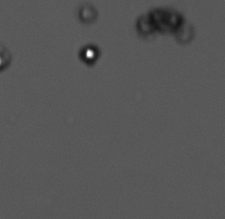Dead Cell: (149, 1, 184, 36), (175, 22, 195, 44), (136, 13, 155, 35), (80, 4, 99, 22), (1, 44, 12, 73)
Living Cell: (79, 43, 101, 66)
